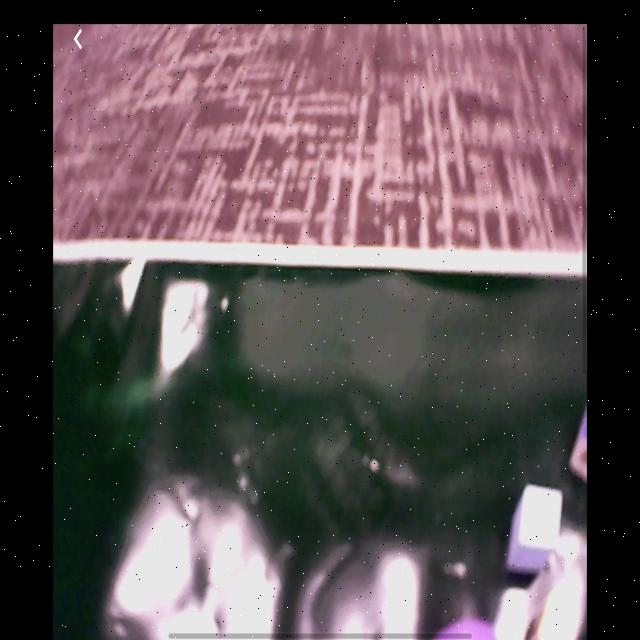ball: (439, 618, 507, 640)
